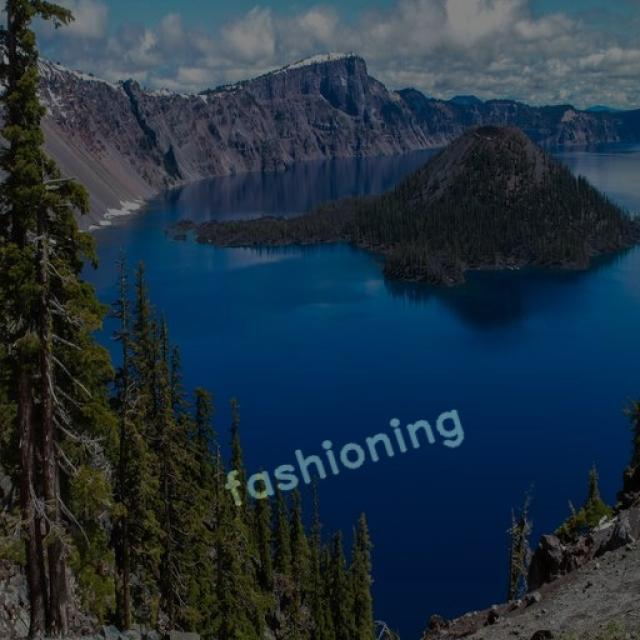watermark: (218, 394, 468, 515)
